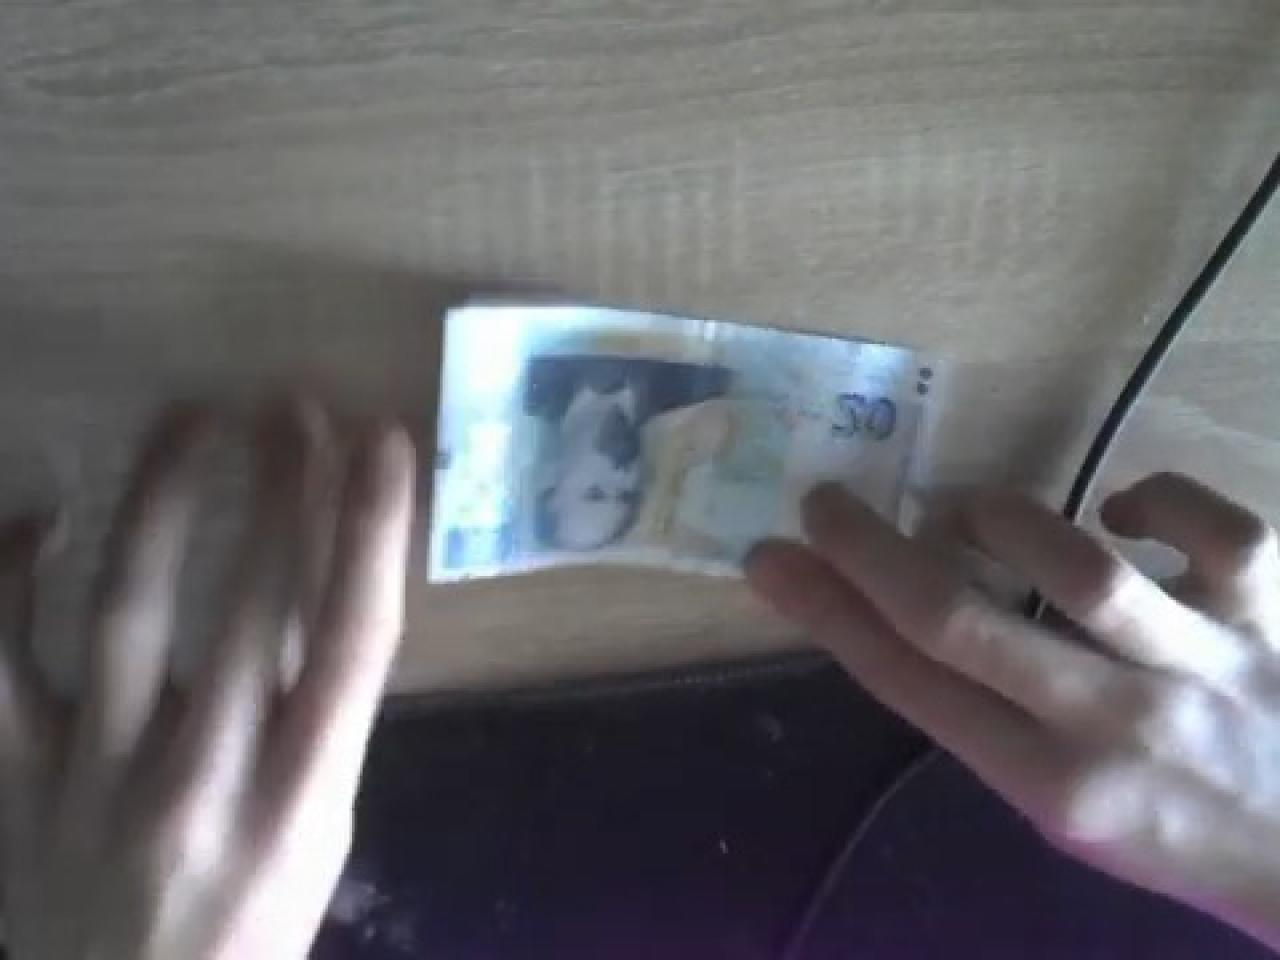20leva: (424, 296, 933, 592)
